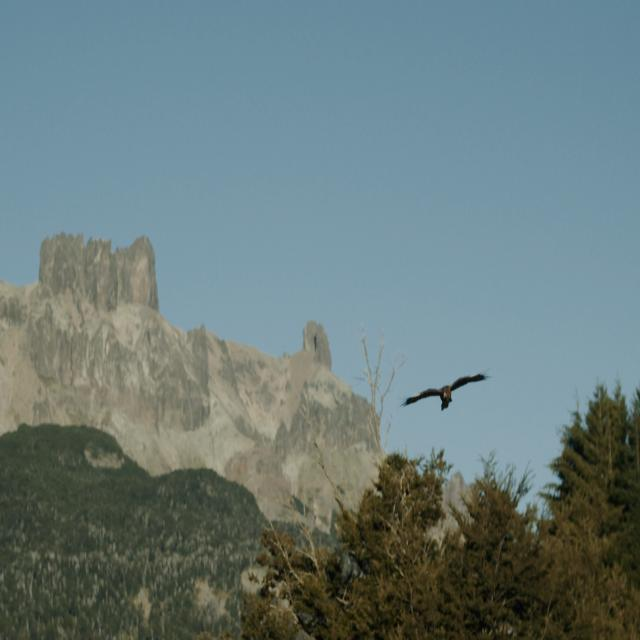bird: (394, 364, 488, 437)
